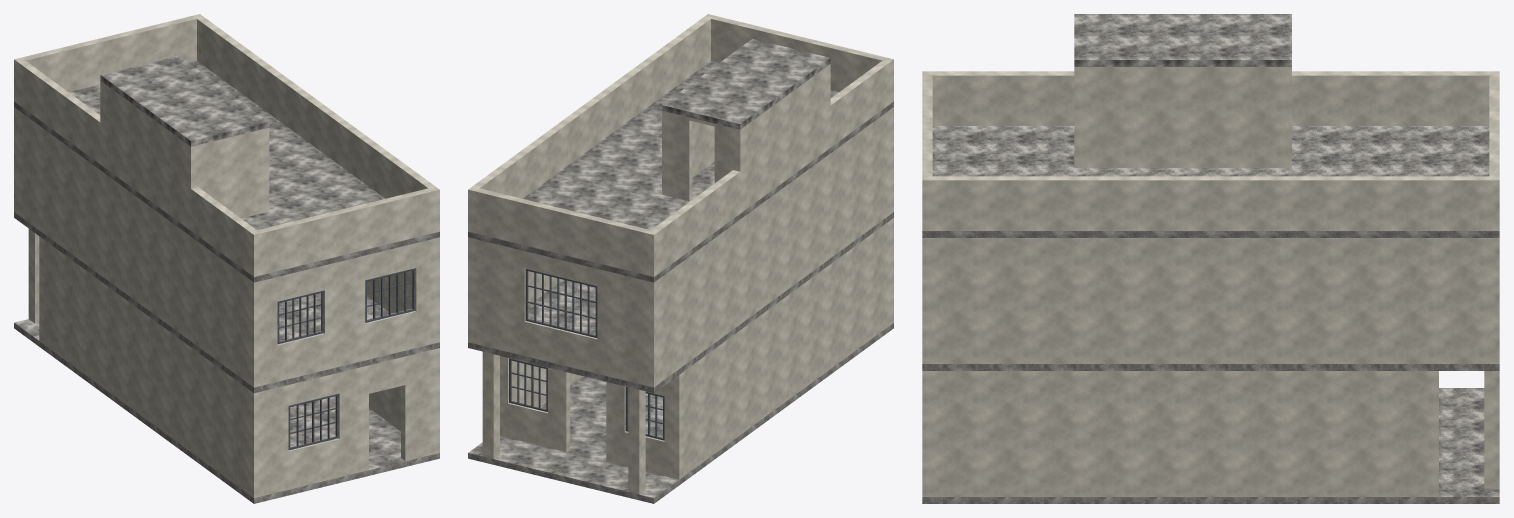
The model's file is neighbor_house.fbx.
3 renders of one model, left to right at view 1: azimuth 30°, elevation 25°; view 2: azimuth 150°, elevation 25°; view 3: azimuth 270°, elevation 25°, orthographic. The views are drawn at different scales.
Parts seen in each view (by area): view 1: neighbor_house; view 2: neighbor_house; view 3: neighbor_house.
Part boxes in pixels (bbox=[...]): neighbor_house: bbox=[14, 14, 439, 503]; neighbor_house: bbox=[468, 14, 893, 503]; neighbor_house: bbox=[922, 14, 1499, 503].
Size of the model in its own units: 510 by 830 by 1140.
